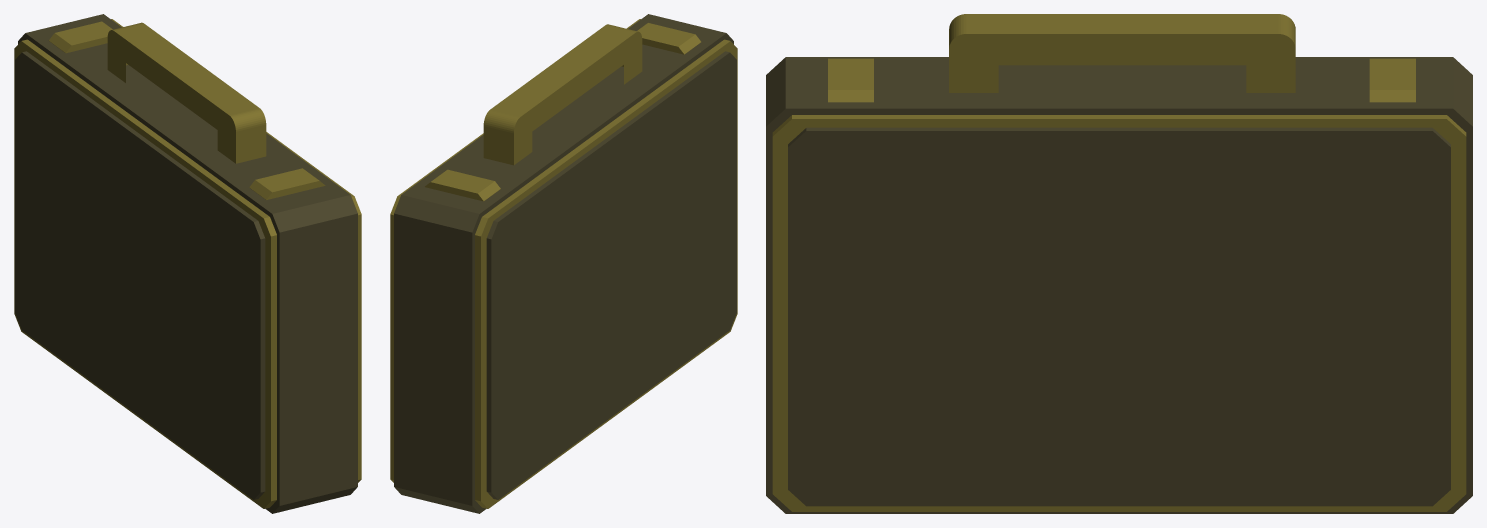
Rendered from IntelligencePickup.fbx.
3 renders of one model, left to right at view 1: azimuth 30°, elevation 25°; view 2: azimuth 150°, elevation 25°; view 3: azimuth 270°, elevation 25°, orthographic. The views are drawn at different scales.
Parts seen in each view (by area): view 1: CaseBody1, CaseBody2, CaseBody, CaseHandle, CaseClasp1, CaseClasp; view 2: CaseBody1, CaseBody2, CaseBody, CaseHandle, CaseClasp, CaseClasp1; view 3: CaseBody1, CaseBody2, CaseBody, CaseHandle, CaseClasp, CaseClasp1.
Part boxes in pixels (left/top/right/bottom): CaseBody1: left=15, top=51, right=265, bottom=499; CaseBody2: left=18, top=14, right=357, bottom=513; CaseBody: left=14, top=19, right=361, bottom=508; CaseHandle: left=107, top=22, right=266, bottom=163; CaseClasp1: left=249, top=168, right=325, bottom=199; CaseClasp: left=49, top=21, right=112, bottom=53; CaseBody1: left=486, top=51, right=736, bottom=499; CaseBody2: left=394, top=14, right=733, bottom=513; CaseBody: left=390, top=19, right=737, bottom=508; CaseHandle: left=483, top=24, right=642, bottom=165; CaseClasp: left=425, top=169, right=500, bottom=201; CaseClasp1: left=637, top=23, right=700, bottom=54; CaseBody1: left=788, top=127, right=1450, bottom=506; CaseBody2: left=766, top=57, right=1472, bottom=513; CaseBody: left=772, top=115, right=1466, bottom=511; CaseHandle: left=949, top=14, right=1295, bottom=92; CaseClasp: left=1369, top=58, right=1415, bottom=102; CaseClasp1: left=828, top=58, right=873, bottom=102.
Size of the model in its own units: 0.8472 by 2.77 by 3.82.
